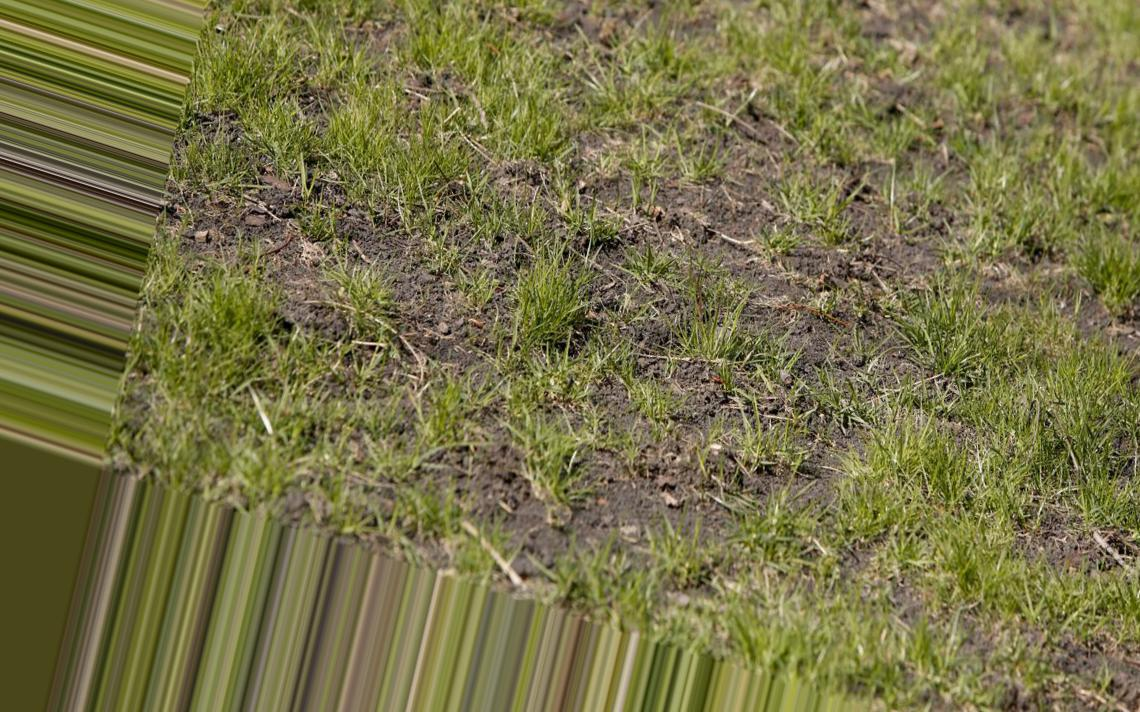patch: (706, 192, 843, 307), (945, 251, 1080, 351), (380, 220, 491, 318), (591, 231, 686, 327), (782, 366, 884, 455), (584, 407, 678, 503), (282, 236, 378, 318)
